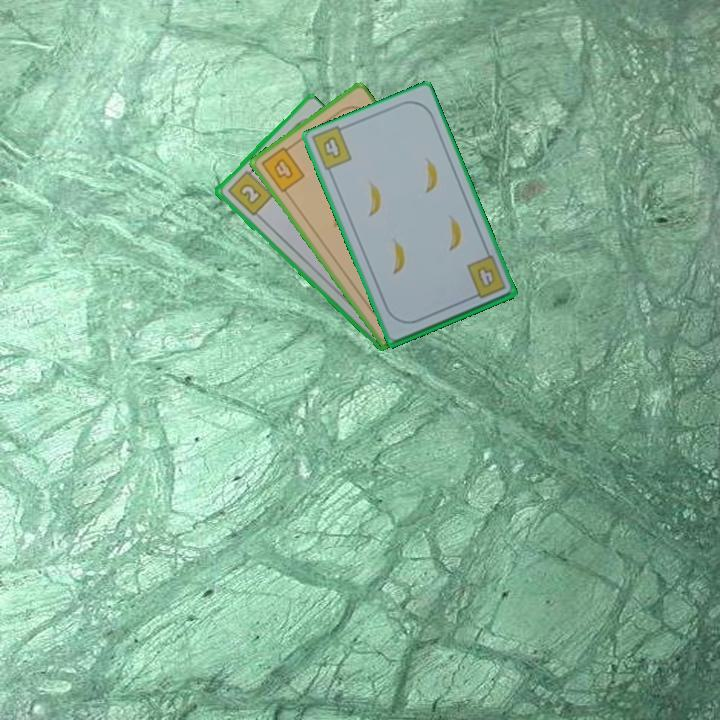2b: (223, 164, 275, 219)
4b: (257, 141, 308, 195), (463, 252, 508, 302), (319, 132, 344, 161)
